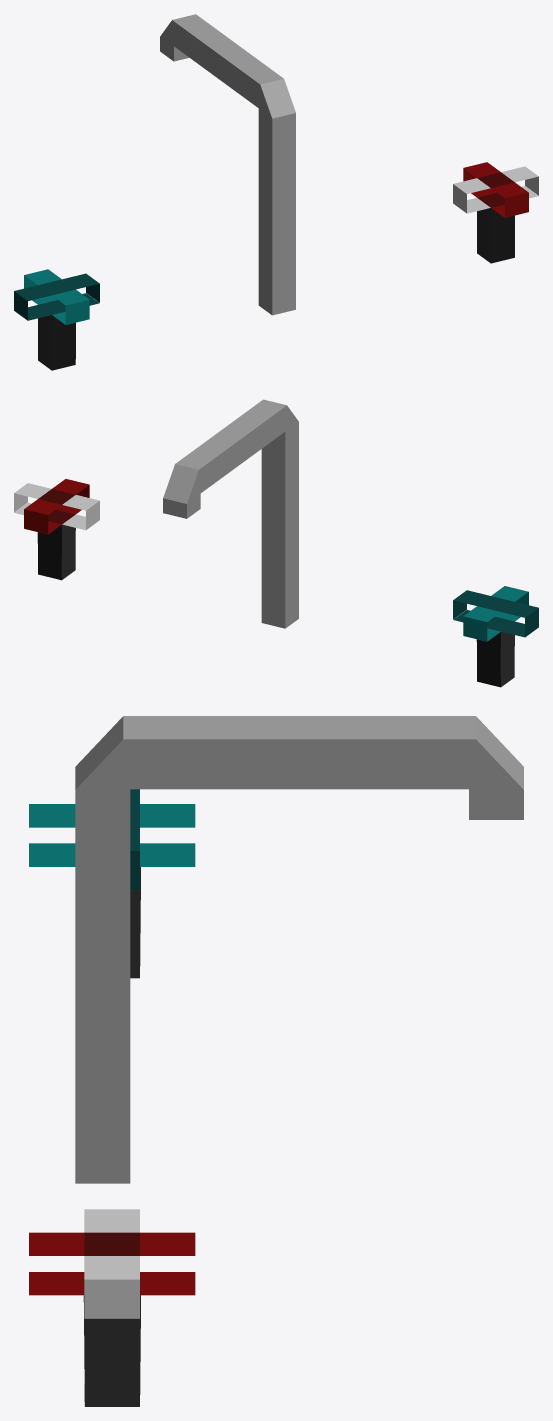
The model's file is faucet.obj.
3 views of the same model, one above another, from view 1: azimuth 30°, elevation 25°; view 2: azimuth 150°, elevation 25°; view 3: azimuth 270°, elevation 25° (orthographic). The views are drawn at different scales.
Visible parts, largest first — view 1: Cube.002, Cube.003, Cube.000_Cube.004; view 2: Cube.002, Cube.003, Cube.000_Cube.004; view 3: Cube.002, Cube.003, Cube.000_Cube.004.
Boxes of the visible parts, box(x1,y1,x2,y2) form: Cube.002: box(160, 14, 295, 315); Cube.003: box(453, 162, 538, 263); Cube.000_Cube.004: box(14, 269, 99, 370); Cube.002: box(163, 399, 298, 628); Cube.003: box(14, 479, 99, 580); Cube.000_Cube.004: box(453, 586, 538, 687); Cube.002: box(75, 716, 523, 1183); Cube.003: box(29, 1209, 195, 1406); Cube.000_Cube.004: box(29, 789, 195, 978).
Bounding box in the file's own units: 12.65 × 5.34 × 5.31.
